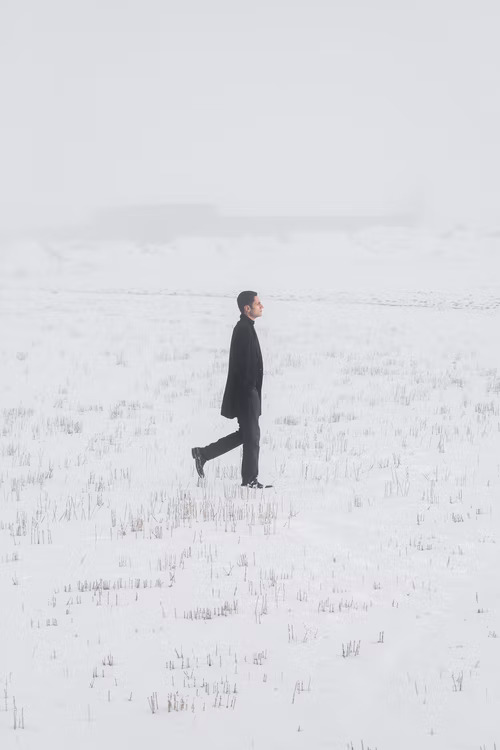person: (192, 289, 272, 488)
